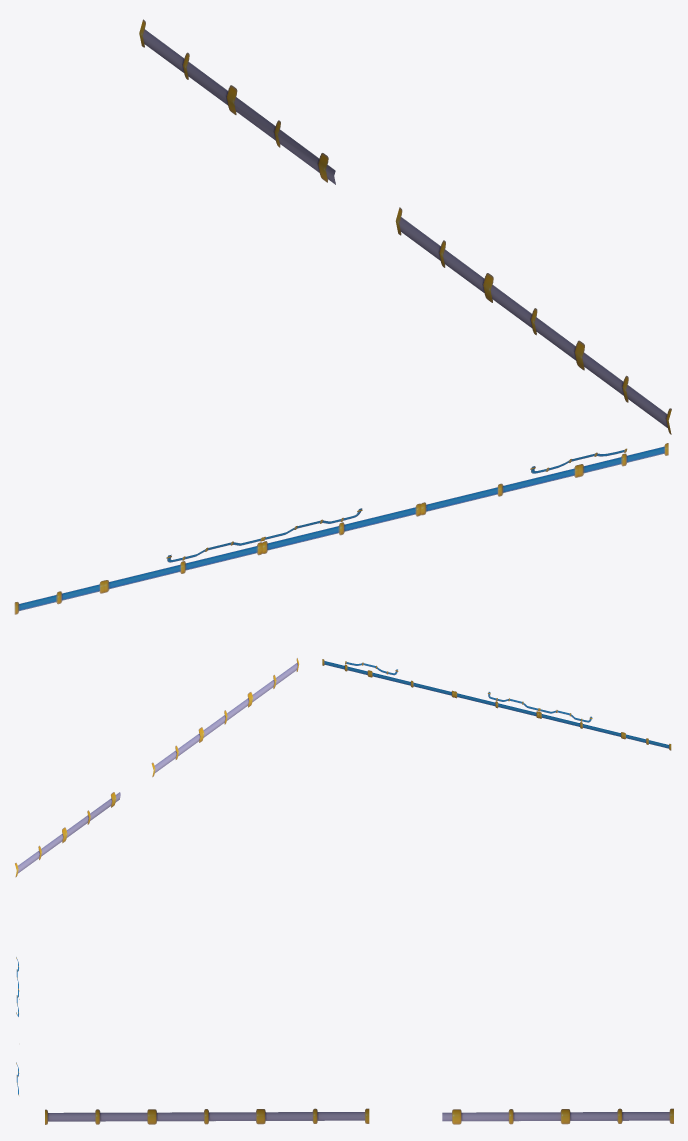
Rendered from Pipes_Level3-15.fbx.
3 renders of one model, top to bottom at view 1: azimuth 30°, elevation 25°; view 2: azimuth 150°, elevation 25°; view 3: azimuth 270°, elevation 25°, orthographic. The views are drawn at different scales.
Parts seen in each view (by area): view 1: Side_Pipes_2D_Creme (×2), Top_Pipes_2D_Blue; view 2: Side_Pipes_2D_Creme (×2), Top_Pipes_2D_Blue; view 3: Side_Pipes_2D_Creme (×2).
Part boxes in pixels (left/top/right/bottom): Side_Pipes_2D_Creme (×2): left=139, top=19, right=671, bottom=434; Top_Pipes_2D_Blue: left=14, top=443, right=668, bottom=614; Side_Pipes_2D_Creme (×2): left=15, top=658, right=299, bottom=877; Top_Pipes_2D_Blue: left=322, top=659, right=671, bottom=750; Side_Pipes_2D_Creme (×2): left=45, top=1108, right=673, bottom=1124.
Size of the model in its own units: 315 by 15.64 by 445.
Materials: 1 (1 with a texture image).
